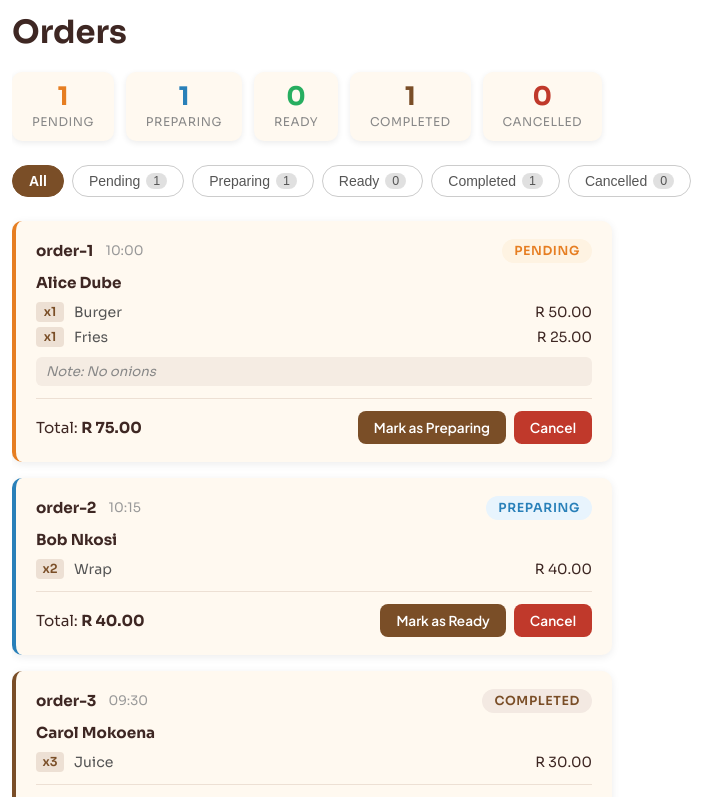
it: Orders – status advancement › advances a preparing order to ready
The width and height of the screenshot is (708, 797).
Expected: the text "Bob Nkosi" is shown, [36,530,117,549]
Step 1. Click the button "Mark as Ready" → (443, 620), box [380,604,506,637]
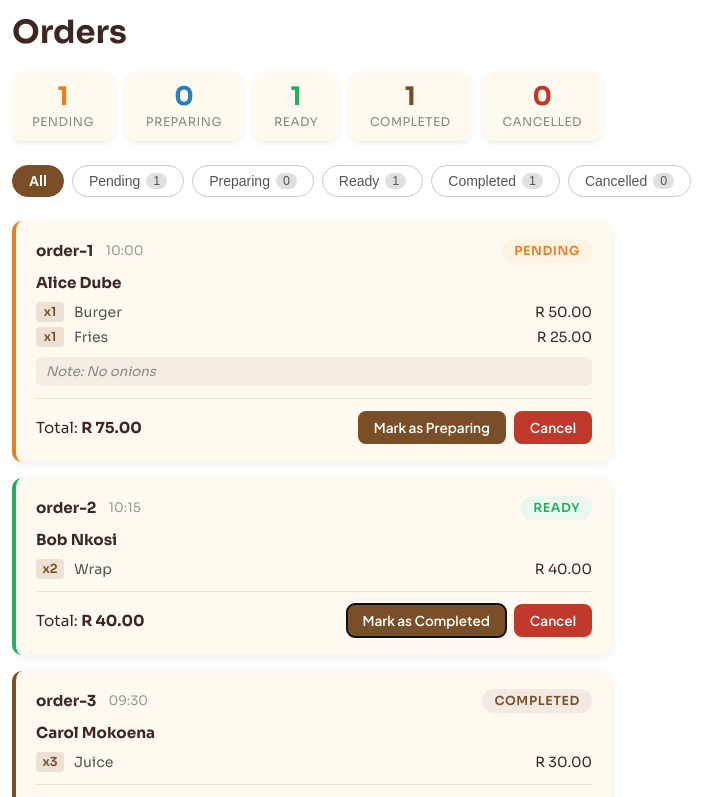
Result: the button "Mark as Completed" is shown at [346,604,506,637]
